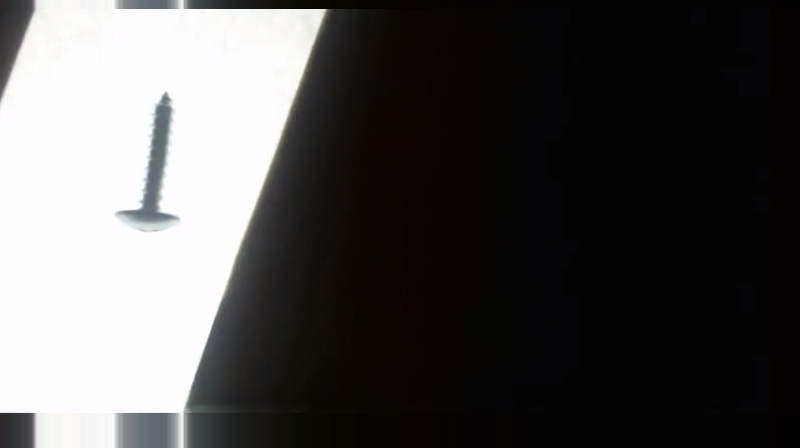S003: (111, 91, 185, 235)
